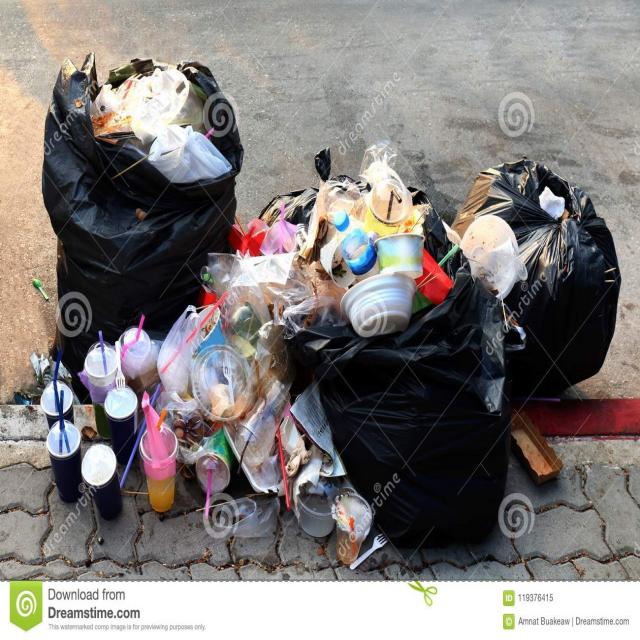plastic_bag: (38, 59, 247, 344), (336, 248, 513, 550), (480, 170, 624, 340)
